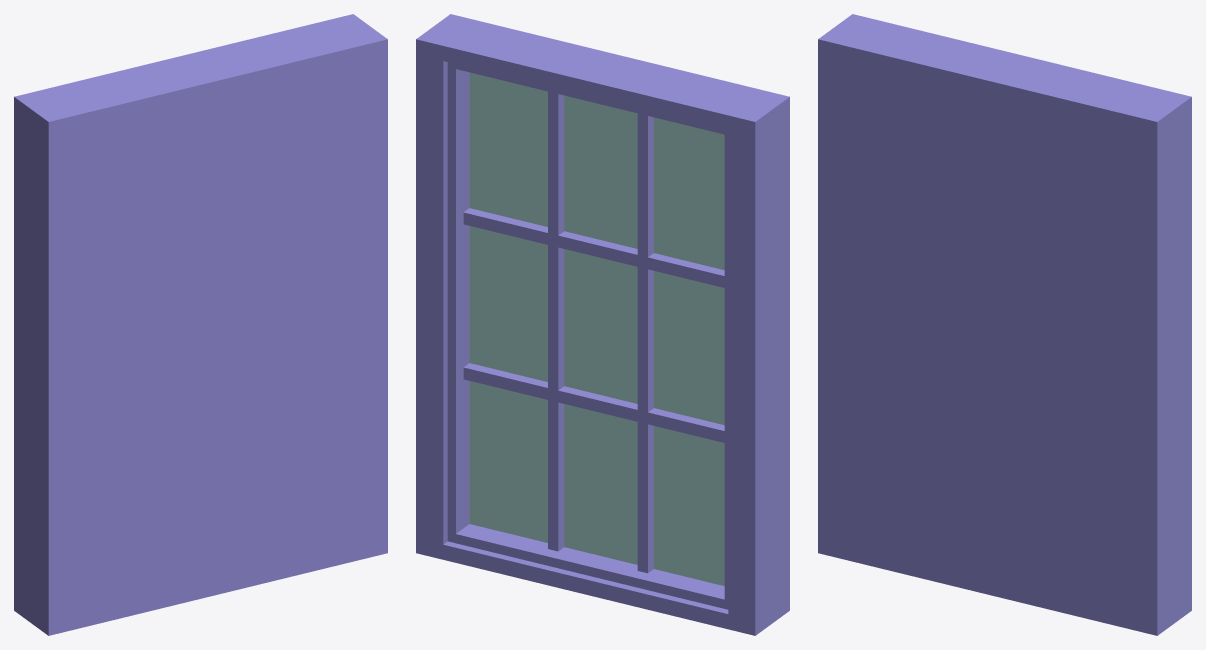
File: window.glb
3 views of the same model, side by side, from view 1: azimuth 30°, elevation 25°; view 2: azimuth 150°, elevation 25°; view 3: azimuth 330°, elevation 25° (orthographic).
Visible parts, largest first — view 1: window; view 2: window; view 3: window.
Boxes of the visible parts, x1=… form: window: x1=14, y1=14, x2=387, y2=635; window: x1=416, y1=14, x2=789, y2=635; window: x1=818, y1=14, x2=1191, y2=635.
Bounding box in the file's own units: 1.26 × 1.82 × 0.2219.
